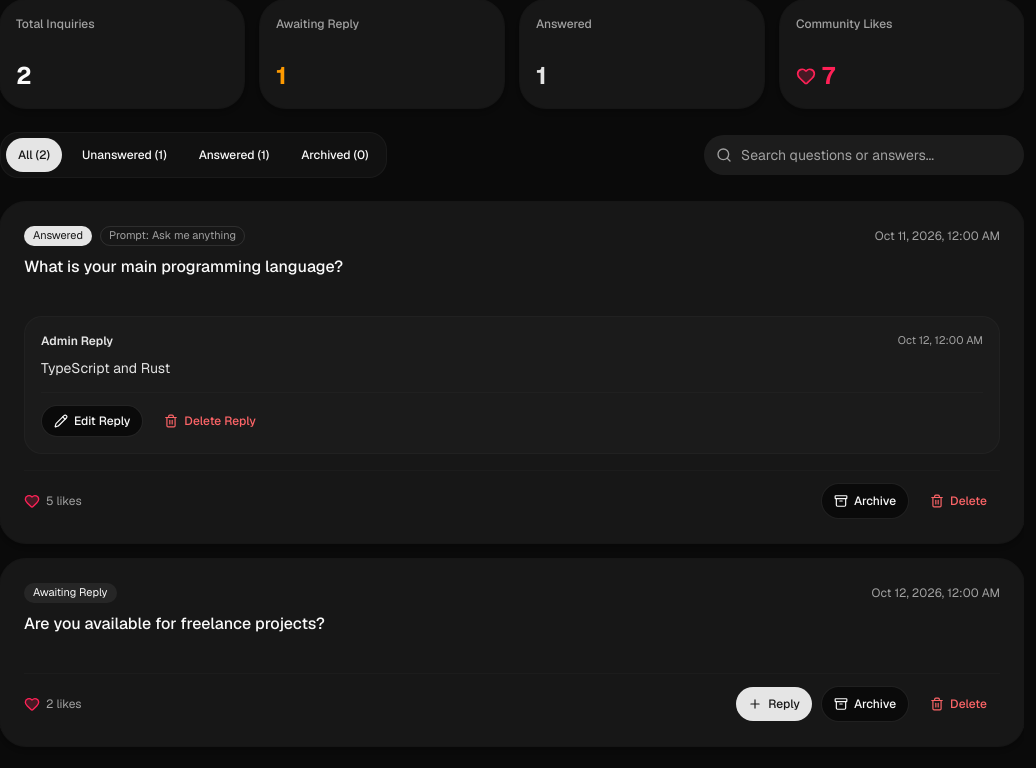
it: Admin & Auth UI Components › AdminQaView Component › filters questions using the search bar
Type "freelance" into the field with placeholder "Search questions or answers..." at (864, 155), box x1=704 y1=135 x2=1024 y2=175
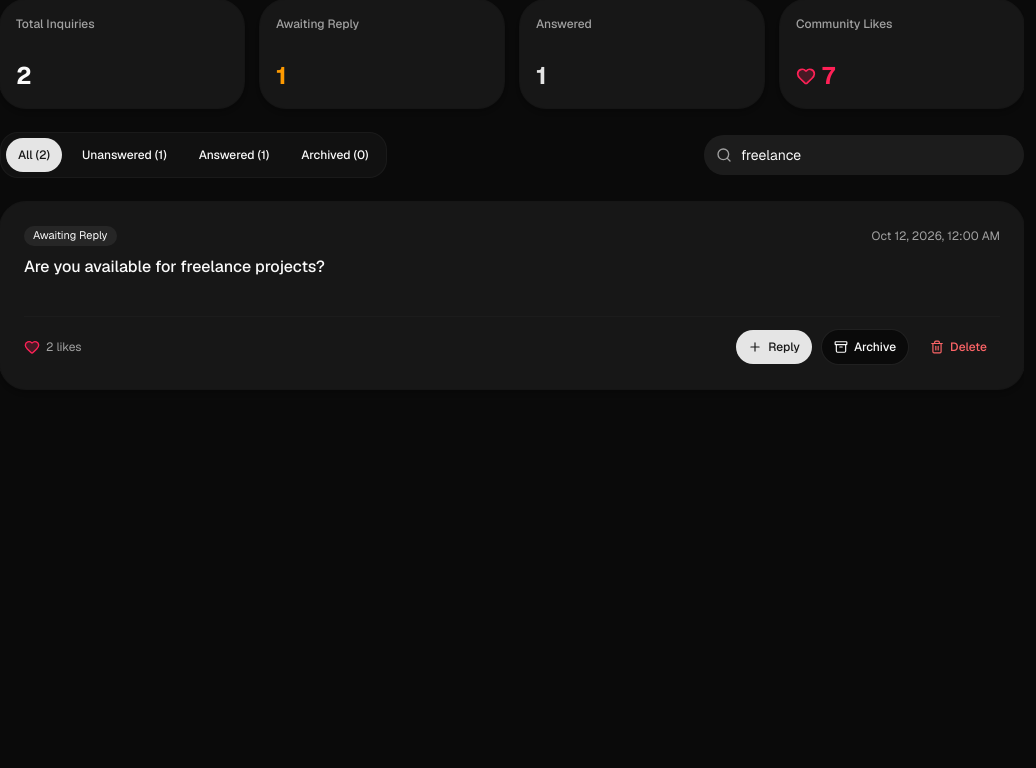
Check: the text "Are you available for freelance projects?" is shown, box x1=24 y1=256 x2=325 y2=277
Check: the text "What is your main programming language?" is gone
